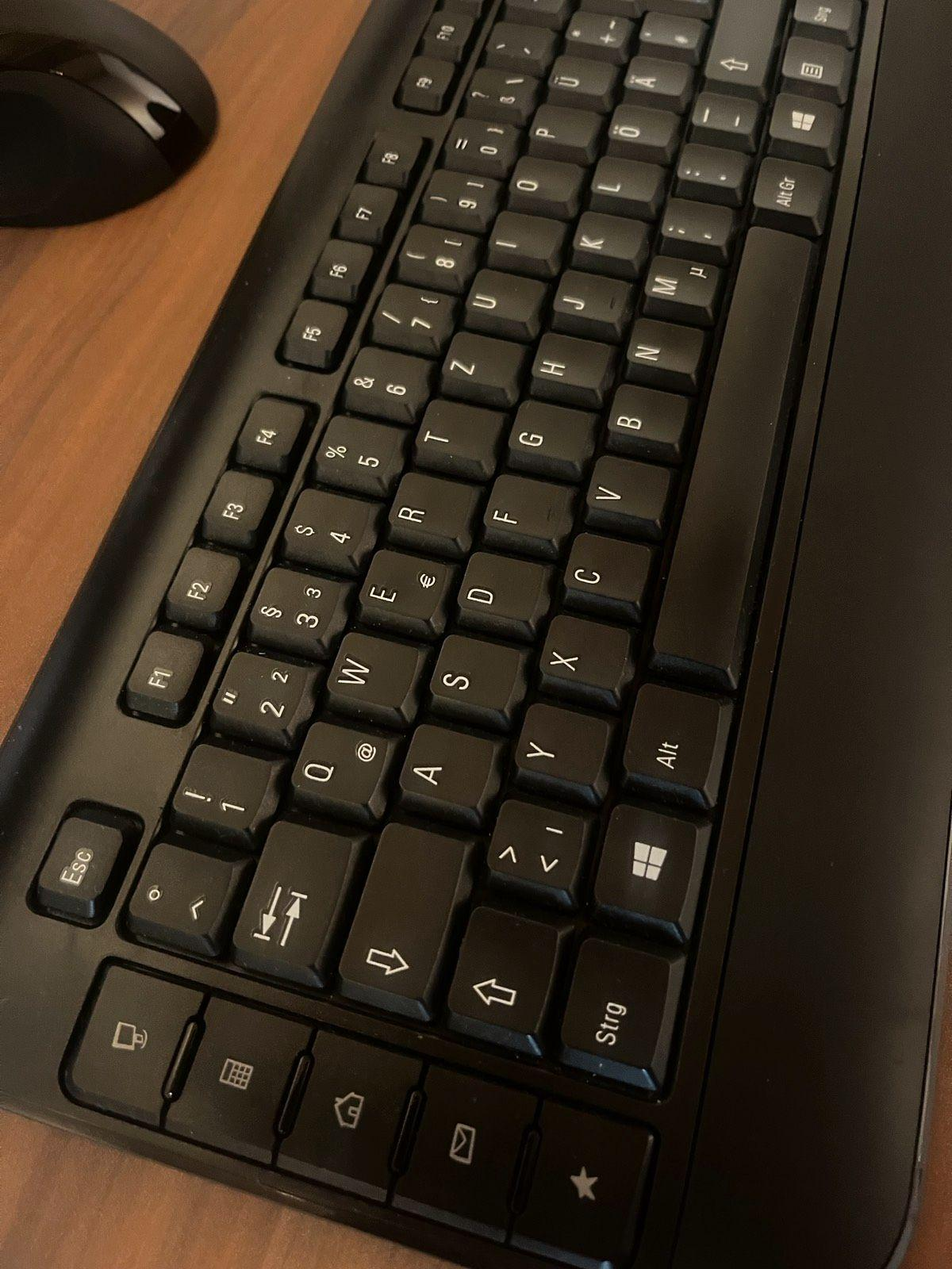0: (442, 113, 520, 174)
1: (169, 738, 278, 836)
2: (207, 644, 313, 746)
3: (243, 562, 348, 652)
4: (278, 483, 378, 569)
5: (309, 411, 405, 492)
6: (340, 342, 431, 420)
7: (370, 278, 455, 353)
8: (395, 220, 478, 289)
9: (418, 165, 500, 229)
a: (397, 719, 497, 809)
accent: (484, 18, 555, 69)
ae: (621, 52, 692, 98)
alt-left: (623, 682, 735, 799)
altgr-right: (754, 156, 833, 219)
b: (605, 379, 689, 450)
c: (560, 528, 652, 606)
caret: (122, 835, 236, 951)
comma: (659, 194, 735, 252)
d: (454, 547, 548, 627)
e: (356, 543, 451, 625)
f: (481, 468, 573, 546)
g: (505, 396, 595, 470)
h: (532, 328, 613, 394)
hash: (638, 10, 709, 52)
i: (486, 207, 565, 270)
j: (550, 266, 631, 332)
k: (571, 207, 646, 263)
keyboard: (8, 6, 947, 1265)
l: (589, 152, 664, 208)
less: (482, 793, 589, 899)
m: (641, 250, 721, 316)
minus: (689, 82, 764, 140)
n: (624, 313, 705, 381)
o: (506, 153, 582, 211)
oe: (608, 96, 684, 153)
p: (530, 99, 605, 156)
plus: (562, 8, 634, 50)
point: (675, 139, 750, 196)
q: (286, 715, 393, 813)
r: (385, 466, 475, 547)
s: (426, 630, 523, 714)
shift-left: (442, 899, 562, 1045)
shift-lock: (340, 826, 483, 1002)
shift-right: (704, 2, 783, 87)
space: (651, 231, 817, 668)
ss: (463, 64, 537, 121)
strg-left: (555, 929, 678, 1092)
strg-right: (793, 1, 862, 32)
t: (413, 393, 501, 474)
tab: (229, 812, 355, 983)
u: (467, 265, 546, 328)
ue: (547, 50, 618, 98)
v: (583, 450, 672, 526)
w: (324, 627, 420, 711)
x: (536, 609, 633, 692)
y: (512, 696, 610, 787)
z: (439, 326, 523, 401)
